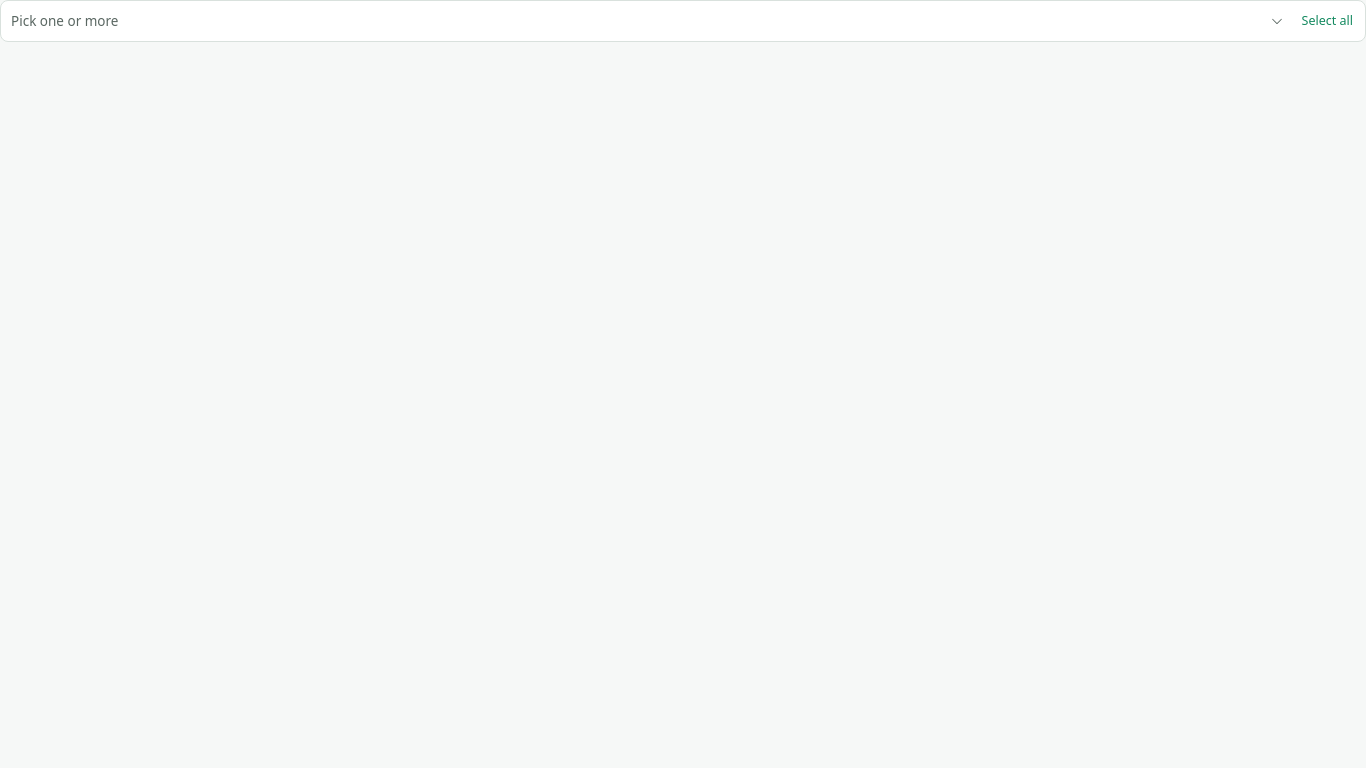
MultiSelect › opens as a bottom sheet on a phone
This screenshot has width=1366, height=768.
Click the button with aria-label "Branches" at coordinates (65, 21), box x1=5 y1=5 x2=1290 y2=37
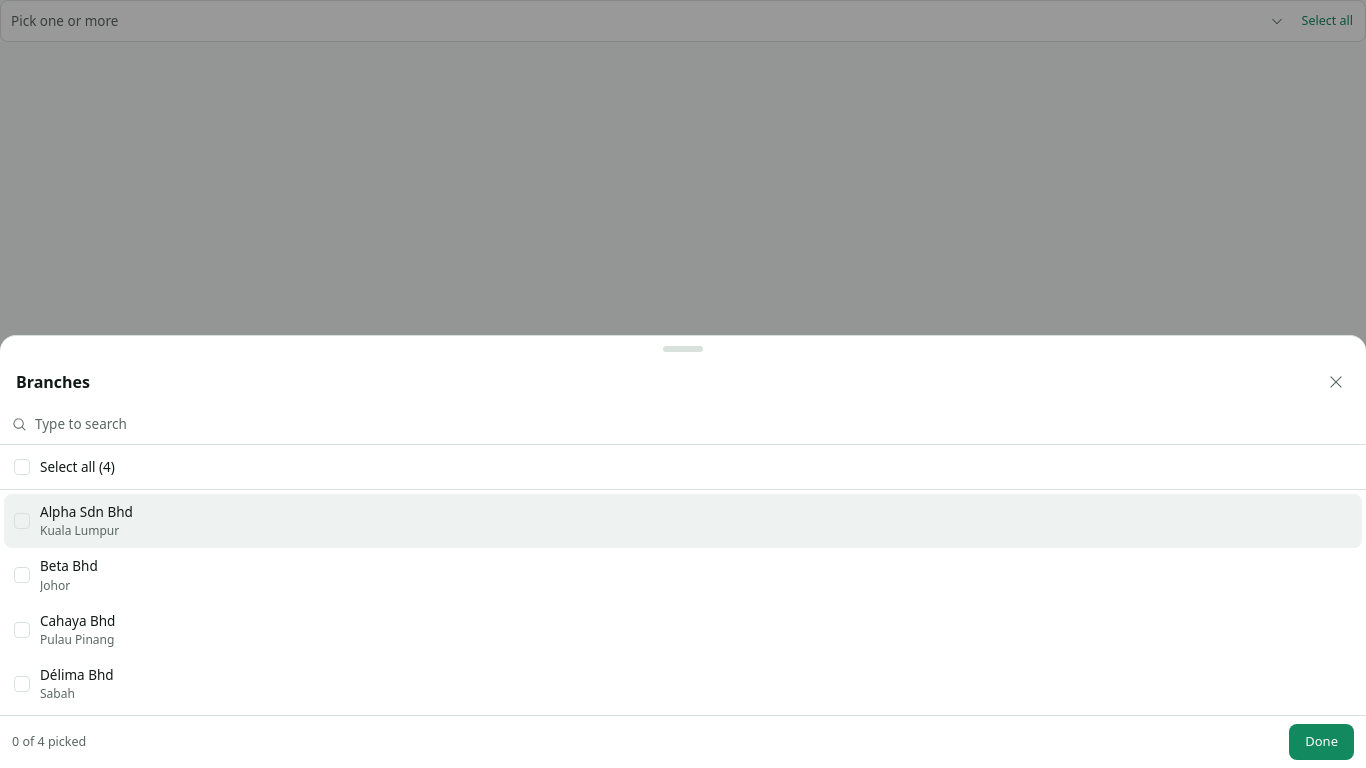
Expected: the heading "Branches" is shown, x1=16 y1=371 x2=90 y2=393
Click the option "Cahaya Bhd Pulau Pinang" at coordinates (65, 630), box x1=14 y1=612 x2=115 y2=648
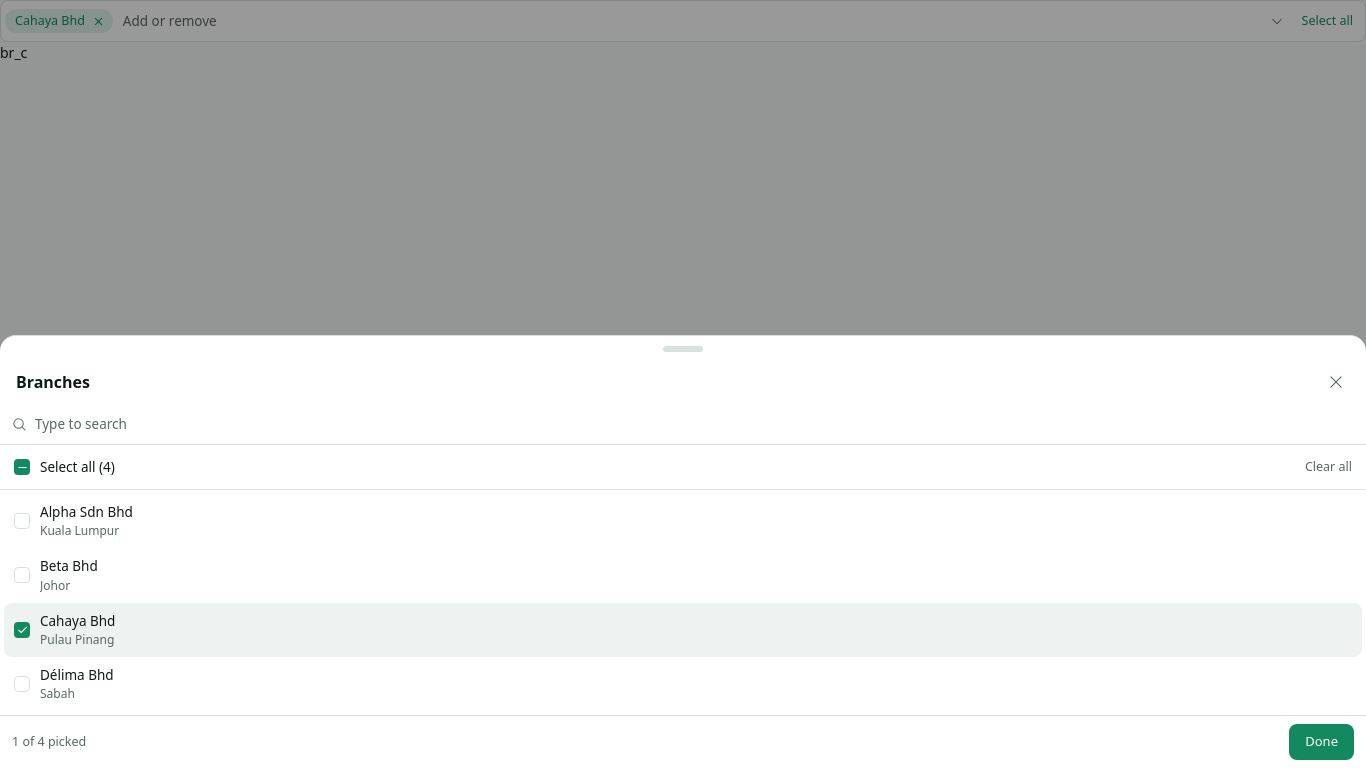
Expected: the text with test id "many" reads "br_c", x1=0 y1=43 x2=27 y2=62
